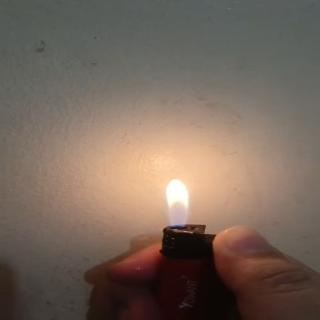fire: (153, 173, 205, 232)
